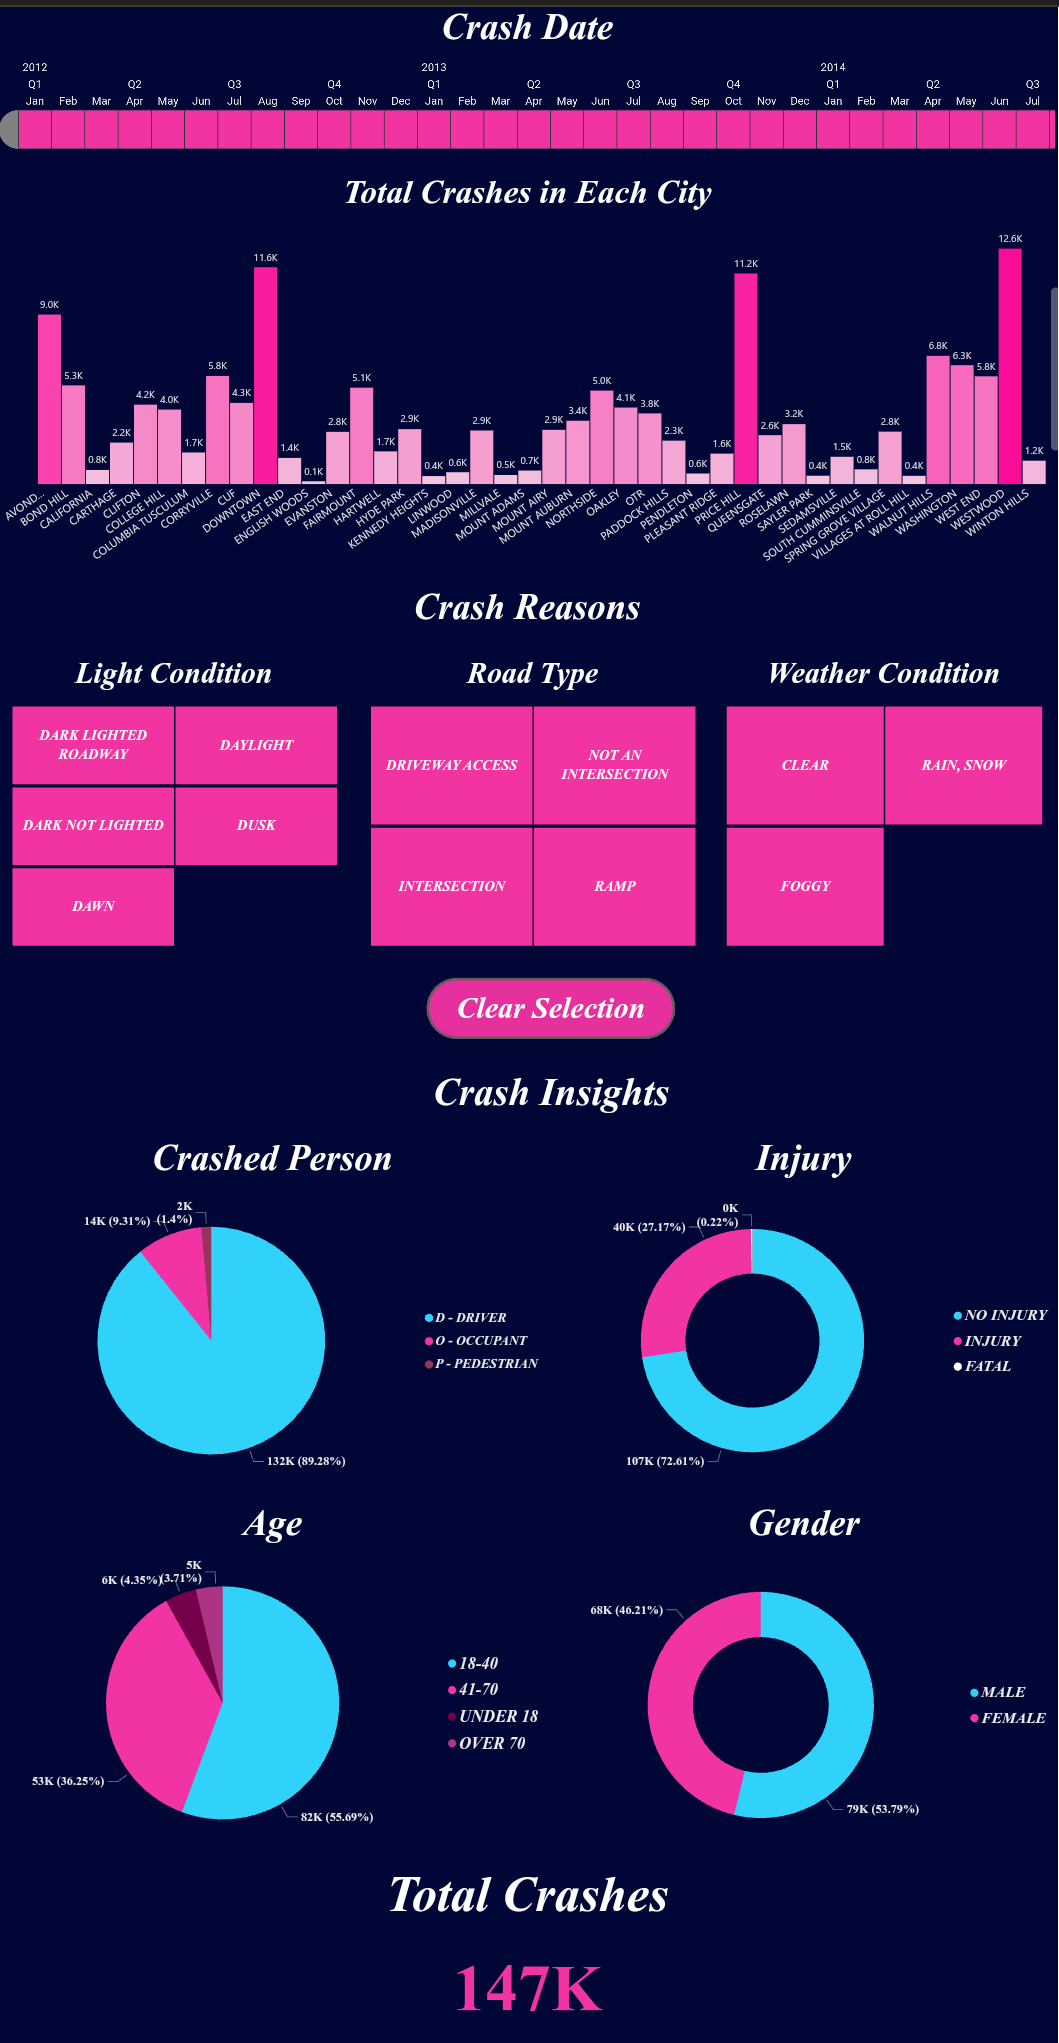

What the dashboard file says about the page in this screenshot:
{"tool":"powerbi","page":{"name":"Page 1","canvas":[1280,2450],"ordinal":0},"visuals":[{"type":"Timeline1447991079100","title":"Crash Date","fields":{"Time":["cincinnati_traffic_crash_data_cleaned.CRASHDATE"]},"box":[0,0,1280.2,200.3],"z":0},{"type":"lineStackedColumnComboChart","title":"Total Crashes in Each City","fields":{"Category":["cincinnati_traffic_crash_data_cleaned.COMMUNITY_COUNCIL_NEIGHBORHOOD"],"Y":["Measuers.total craches"]},"box":[0,200.3,1280.2,495.9],"z":1000},{"type":"slicer","fields":{"Values":["cincinnati_traffic_crash_data_cleaned.CRASHLOCATION"]},"box":[430.3,835.4,430.3,301.6],"z":2000},{"type":"slicer","fields":{"Values":["cincinnati_traffic_crash_data_cleaned.LIGHTCONDITIONSPRIMARY"]},"box":[0,835.4,430.3,301.6],"z":3000},{"type":"slicer","fields":{"Values":["cincinnati_traffic_crash_data_cleaned.WEATHER"]},"box":[860.6,835.4,419.6,301.6],"z":4000},{"type":"donutChart","title":"Injury","fields":{"Category":["cincinnati_traffic_crash_data_cleaned.CRASHSEVERITY"],"Y":["Measuers.total craches"]},"box":[667.4,1361,612.8,438.6],"z":5000},{"type":"donutChart","title":"Gender","fields":{"Category":["cincinnati_traffic_crash_data_cleaned.GENDER"],"Y":["Measuers.total craches"]},"box":[667.4,1799.6,612.8,438.6],"z":6000},{"type":"pieChart","title":"Crashed Person ","fields":{"Category":["cincinnati_traffic_crash_data_cleaned.TYPEOFPERSON"],"Y":["Measuers.total craches"]},"box":[0,1361,667.4,438.6],"z":7000},{"type":"pieChart","title":"Age","fields":{"Category":["cincinnati_traffic_crash_data_cleaned.AGE"],"Y":["Measuers.total craches"]},"box":[0,1799.6,667.4,438.6],"z":8000},{"type":"card","title":"Total Crashes","fields":{"Values":["Measuers.total craches"]},"box":[0,2238.3,1280.2,212],"z":9000},{"type":"shape","title":"Crash Reasons","box":[438.7,696.1,402.9,52.4],"z":10000},{"type":"shape","title":"Light Condition","box":[0,782.9,430.3,52.4],"z":11000},{"type":"shape","title":"Road Type","box":[430.3,782.9,430.3,52.4],"z":12000},{"type":"shape","title":"Weather Condition","box":[860.6,782.9,419.6,52.4],"z":13000},{"type":"actionButton","box":[517.3,1167,299.2,73.9],"z":14000},{"type":"shape","title":"Crash Insights","box":[412.4,1279.2,510,65.1],"z":14001}]}

Visuals, with their boxes in screenshot pixels (x1, y1, x2, y2), scaled from the page's 1280x2450 canvas onto the 1059x2043 screenshot:
"Crash Date" Timeline1447991079100: <bbox>0, 0, 1058, 167</bbox>
"Total Crashes in Each City" lineStackedColumnComboChart: <bbox>0, 167, 1058, 581</bbox>
slicer - cincinnati_traffic_crash_data_cleaned.CRASHLOCATION: <bbox>356, 697, 712, 948</bbox>
slicer - cincinnati_traffic_crash_data_cleaned.LIGHTCONDITIONSPRIMARY: <bbox>0, 697, 356, 948</bbox>
slicer - cincinnati_traffic_crash_data_cleaned.WEATHER: <bbox>712, 697, 1058, 948</bbox>
"Injury" donutChart: <bbox>552, 1135, 1058, 1501</bbox>
"Gender" donutChart: <bbox>552, 1501, 1058, 1866</bbox>
"Crashed Person " pieChart: <bbox>0, 1135, 552, 1501</bbox>
"Age" pieChart: <bbox>0, 1501, 552, 1866</bbox>
"Total Crashes" card: <bbox>0, 1866, 1058, 2042</bbox>
"Crash Reasons" shape: <bbox>363, 580, 696, 624</bbox>
"Light Condition" shape: <bbox>0, 653, 356, 697</bbox>
"Road Type" shape: <bbox>356, 653, 712, 697</bbox>
"Weather Condition" shape: <bbox>712, 653, 1058, 697</bbox>
actionButton: <bbox>428, 973, 676, 1035</bbox>
"Crash Insights" shape: <bbox>341, 1067, 763, 1121</bbox>
